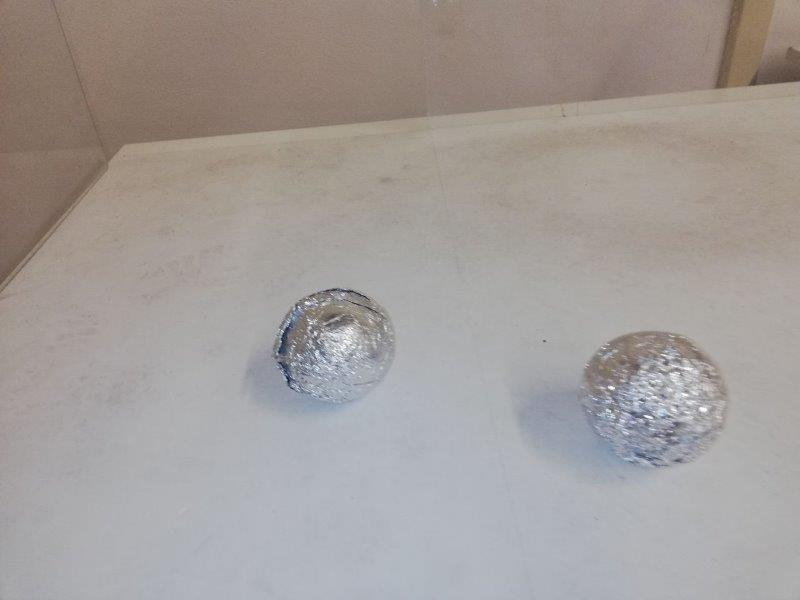bianca: (576, 328, 725, 466), (269, 286, 393, 404)
